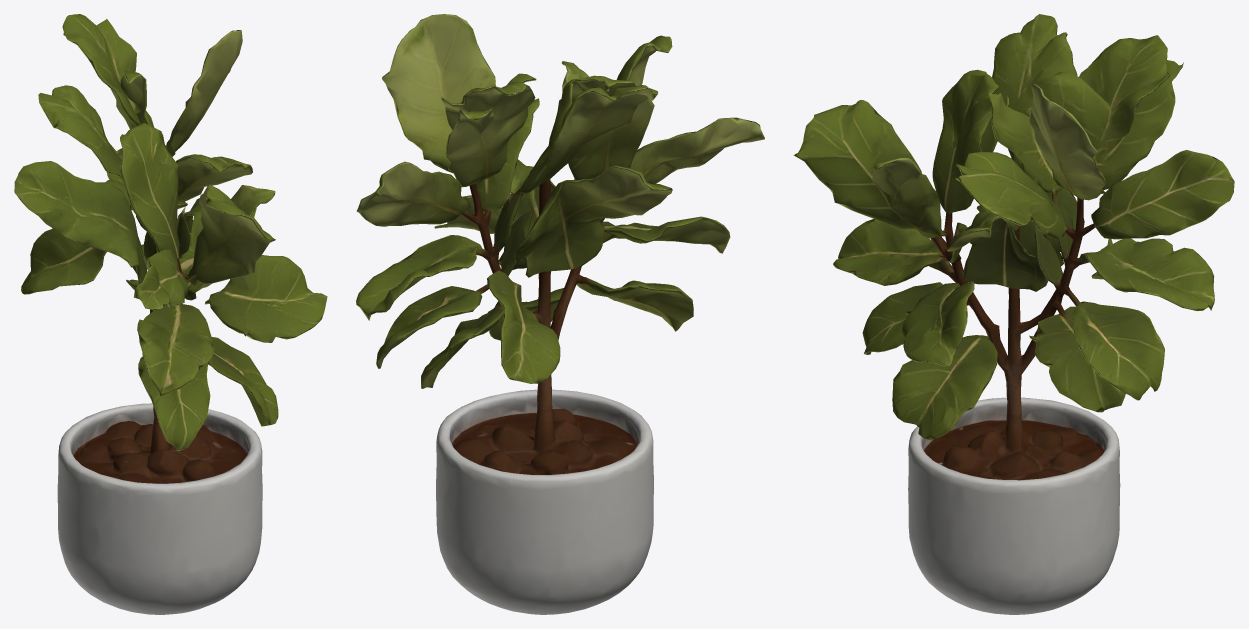
Rendered from plant.glb.
3 views of the same model, side by side, from view 1: azimuth 30°, elevation 25°; view 2: azimuth 150°, elevation 25°; view 3: azimuth 270°, elevation 25° (orthographic). The views are drawn at different scales.
Visible parts, largest first — view 1: tripo_node_56f64d8c-4690-4d6f-8369-bcc7e0168933; view 2: tripo_node_56f64d8c-4690-4d6f-8369-bcc7e0168933; view 3: tripo_node_56f64d8c-4690-4d6f-8369-bcc7e0168933.
Boxes of the visible parts, box(x1,y1,x2,y2) form: tripo_node_56f64d8c-4690-4d6f-8369-bcc7e0168933: box(14, 14, 327, 614); tripo_node_56f64d8c-4690-4d6f-8369-bcc7e0168933: box(356, 14, 764, 614); tripo_node_56f64d8c-4690-4d6f-8369-bcc7e0168933: box(793, 14, 1234, 614).
Size of the model in its own units: 0.5244 by 1 by 0.7327.
Materials: 1 (1 with a texture image).
